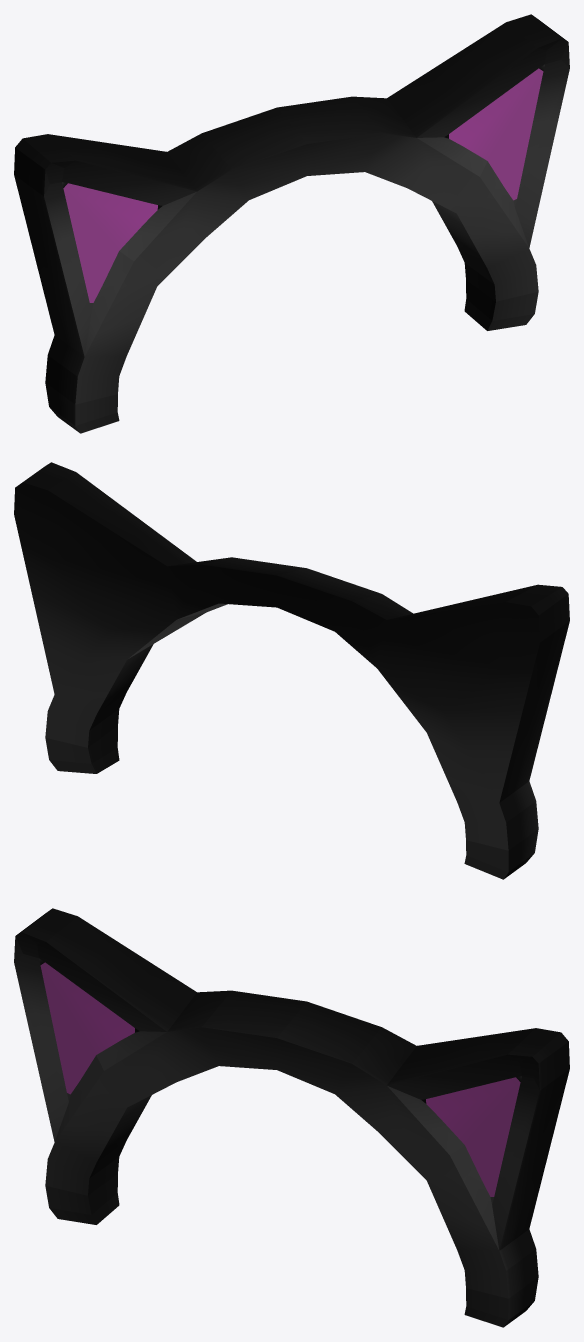
The model's file is catears.fbx.
3 renders of one model, top to bottom at view 1: azimuth 30°, elevation 25°; view 2: azimuth 150°, elevation 25°; view 3: azimuth 330°, elevation 25°, orthographic.
Visible parts, largest first — view 1: catears; view 2: catears; view 3: catears.
Part boxes in pixels (x1,y1,x2,y2): catears: [14, 14, 569, 433]; catears: [14, 462, 569, 879]; catears: [14, 908, 569, 1327].
Size of the model in its own units: 28.5 by 14.68 by 2.82.
